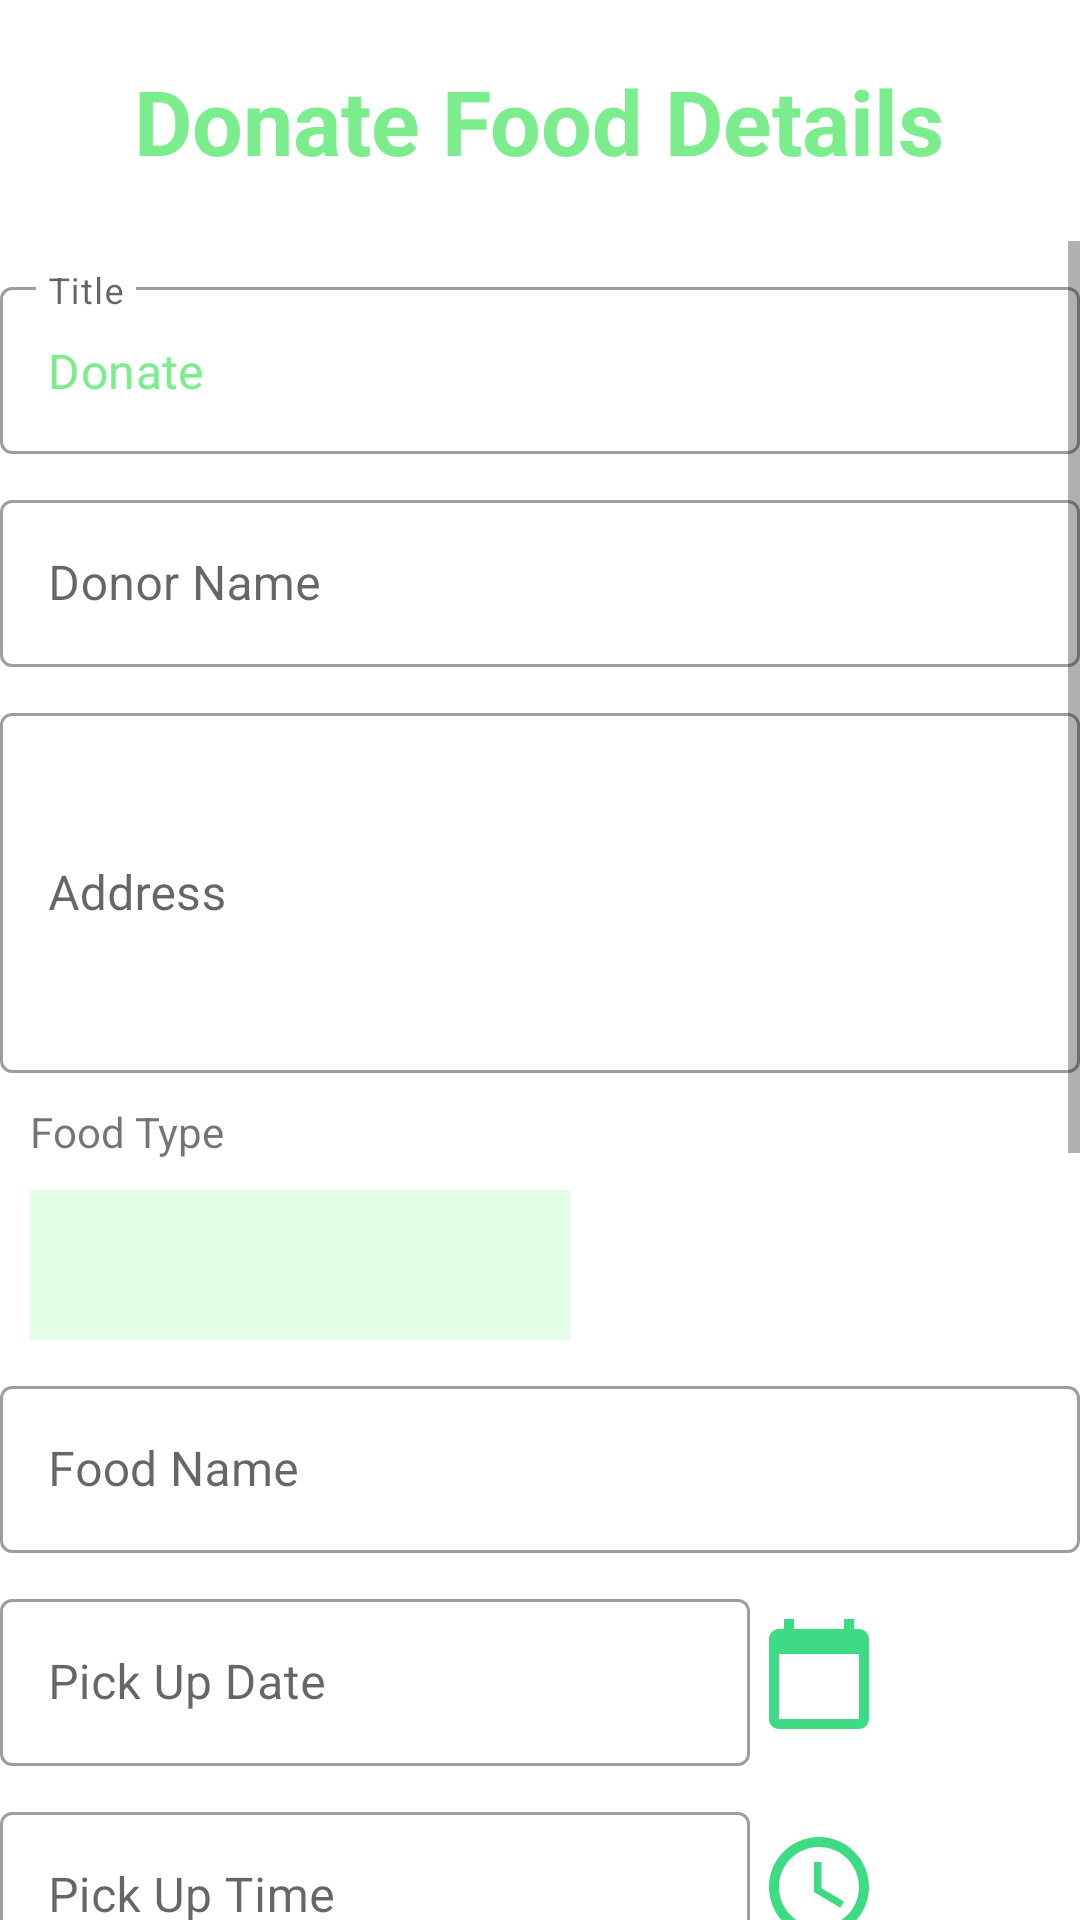

Screen size 1080px×1920px. Icon name, then its box in pixels as (x1, y1, x2, y2):
calendar today: (769, 1619, 869, 1729)
